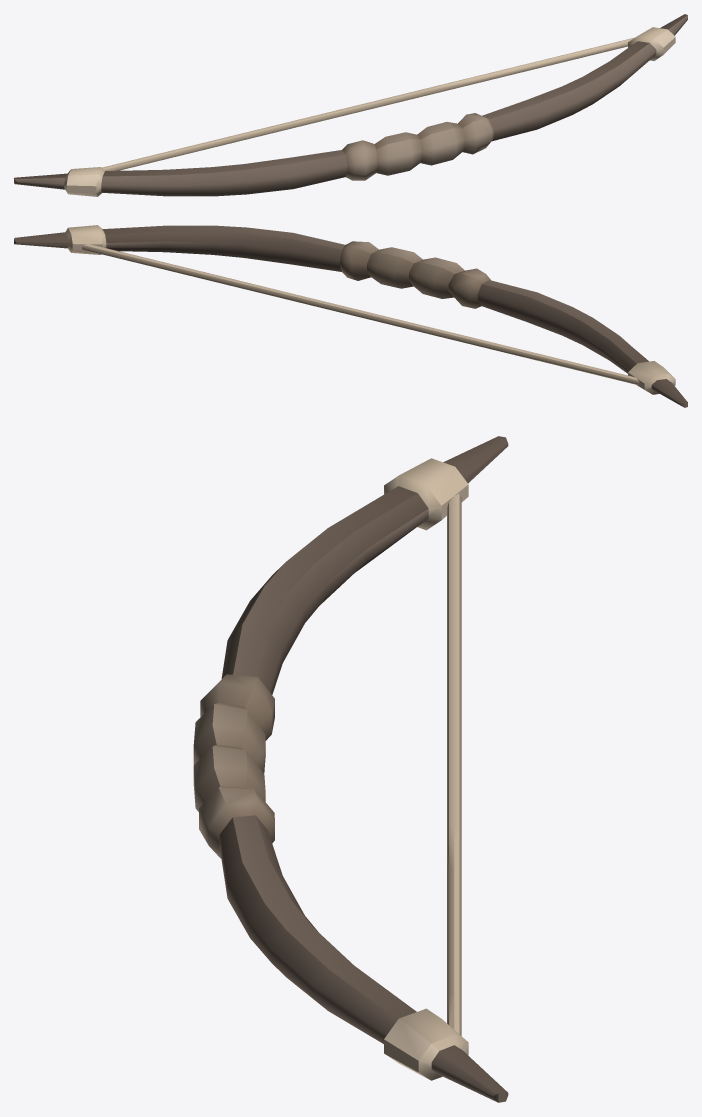
File: bow_A_withString.glb
The picture shows the model from 3 angles, top to bottom: view 1: azimuth 30°, elevation 25°; view 2: azimuth 150°, elevation 25°; view 3: azimuth 270°, elevation 25°; orthographic projection. The views are drawn at different scales.
Visible parts, largest first — view 1: bow_A_withString; view 2: bow_A_withString; view 3: bow_A_withString.
Boxes of the visible parts, box(x1,y1,x2,y2) form: bow_A_withString: box(14, 14, 687, 196); bow_A_withString: box(14, 225, 687, 407); bow_A_withString: box(193, 436, 508, 1102).
Bounding box in the file's own units: 1.96 × 0.0916 × 0.3958.
1 material, 1 textured.
